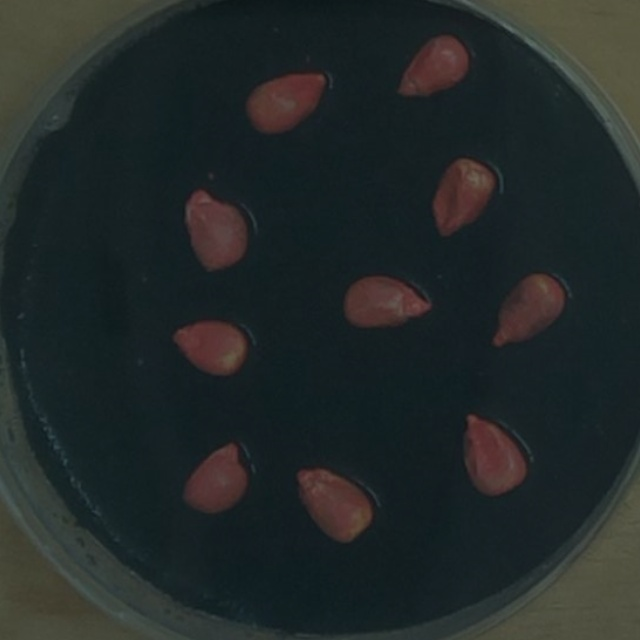Zea mays: (287, 458, 384, 554), (481, 264, 574, 359), (173, 179, 256, 282), (452, 407, 536, 508), (234, 64, 335, 144), (171, 433, 257, 523), (423, 151, 502, 247), (390, 25, 478, 110), (336, 269, 440, 339), (163, 312, 256, 386)
